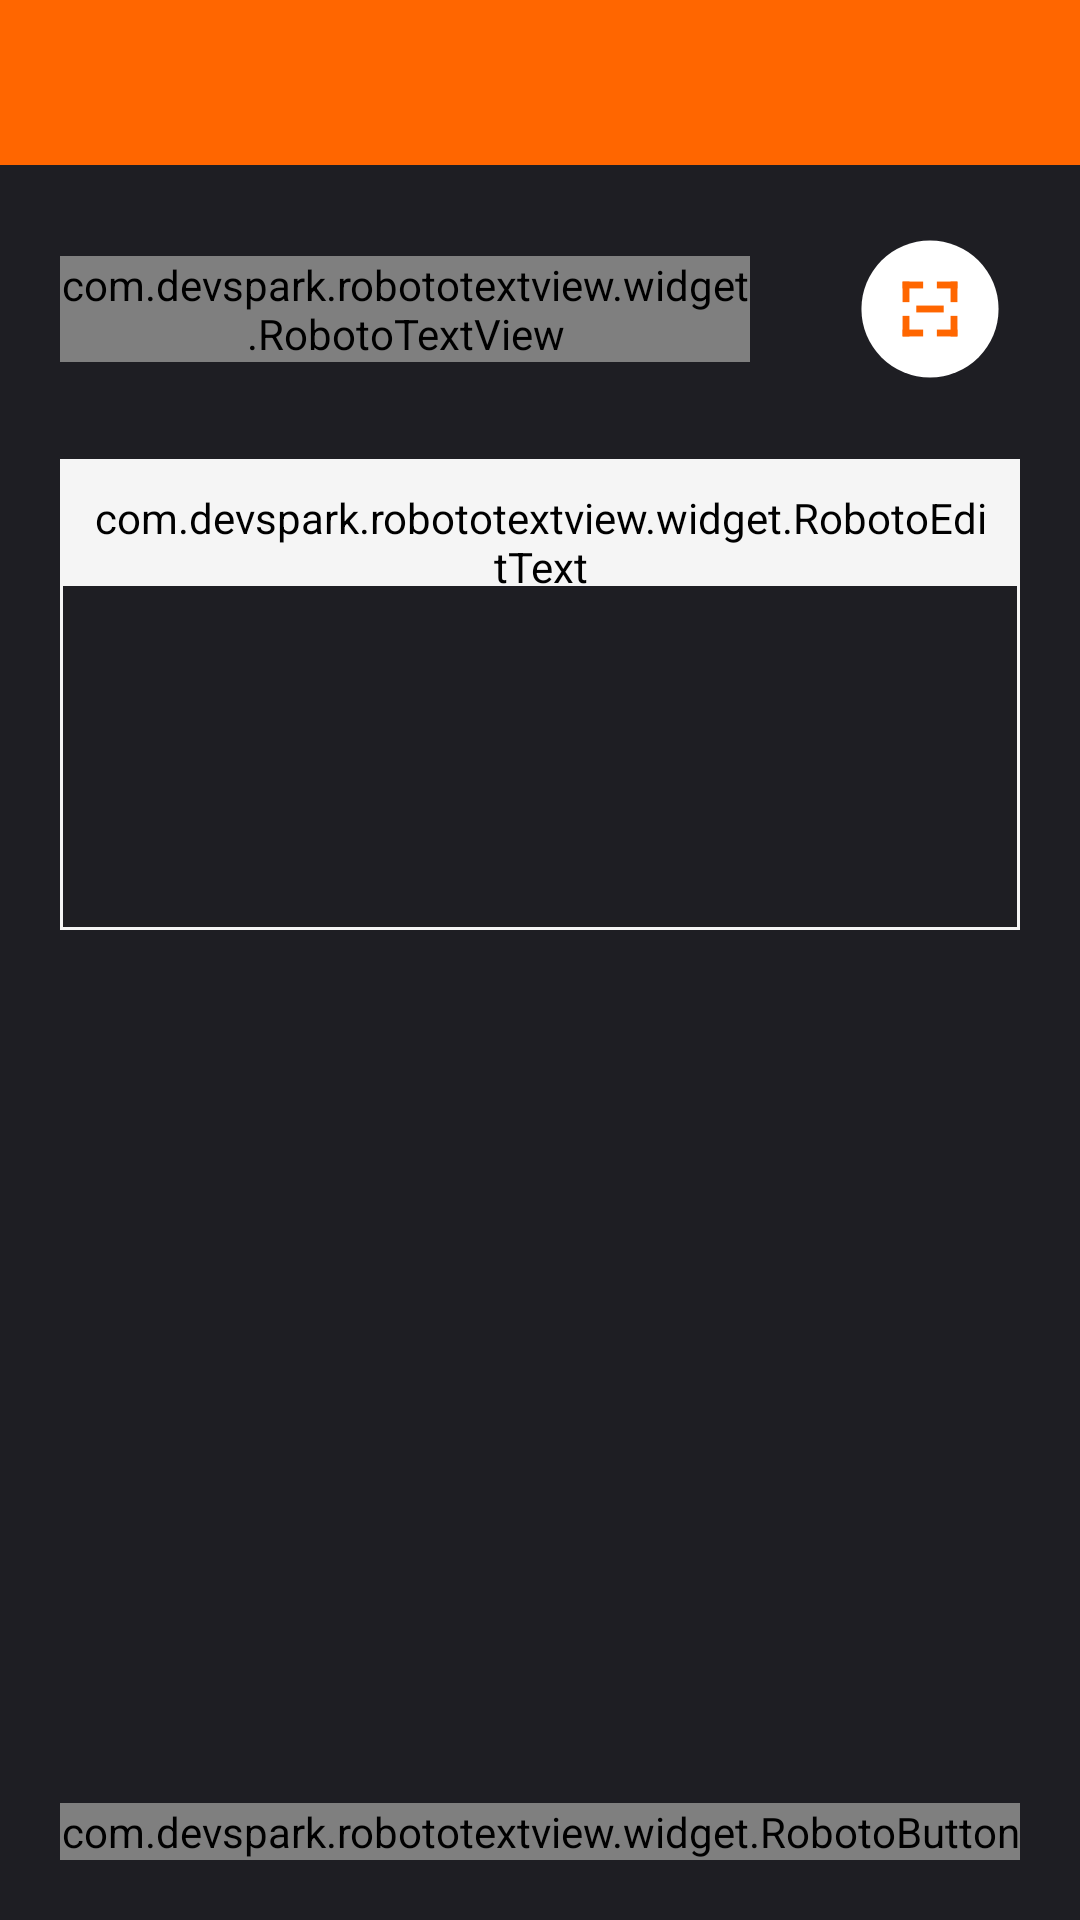

Icon click points for this 1080*1920 phone screenshot, format (x=x, y=y):
scan: (x=930, y=309)
